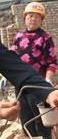gloves: (1, 1, 1, 1)
hard-hat: (0, 0, 29, 20)
